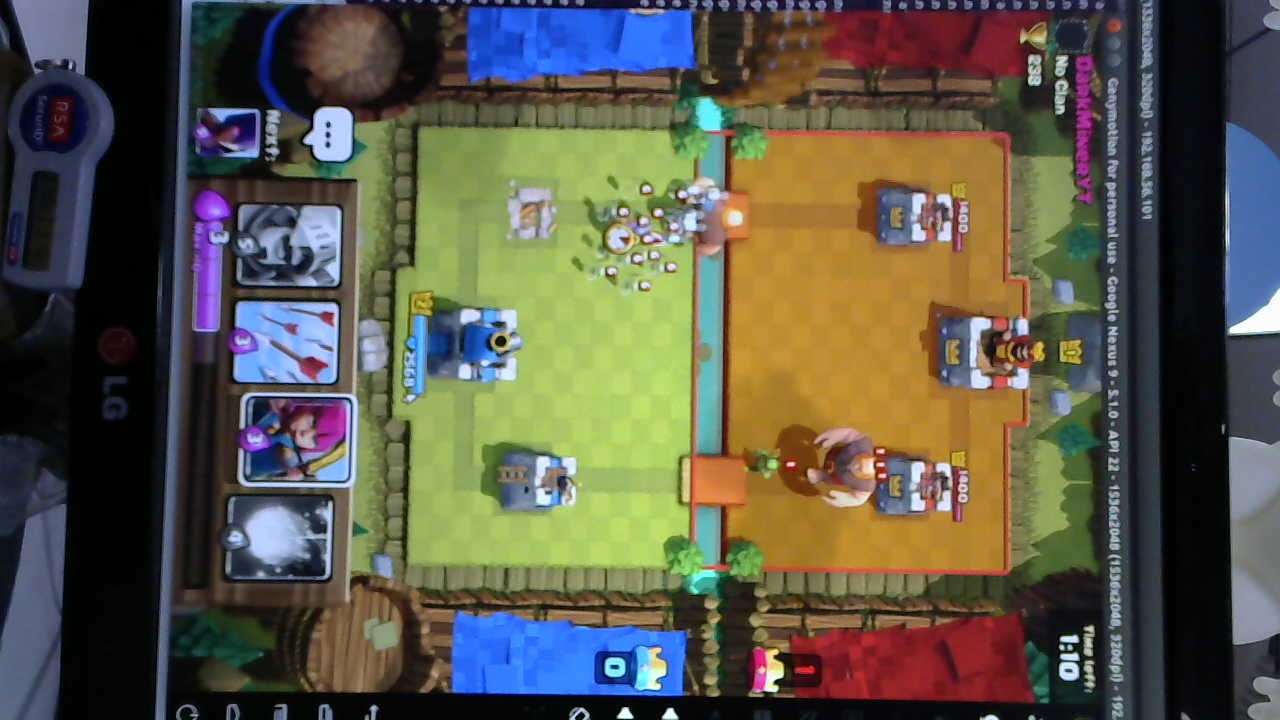arena: (494, 447, 580, 513)
darena: (501, 185, 560, 242)
earena: (873, 187, 957, 251), (871, 453, 954, 517)
eking: (935, 316, 1045, 394)
giant: (808, 422, 883, 511), (691, 174, 744, 267)
king: (422, 298, 525, 382)
